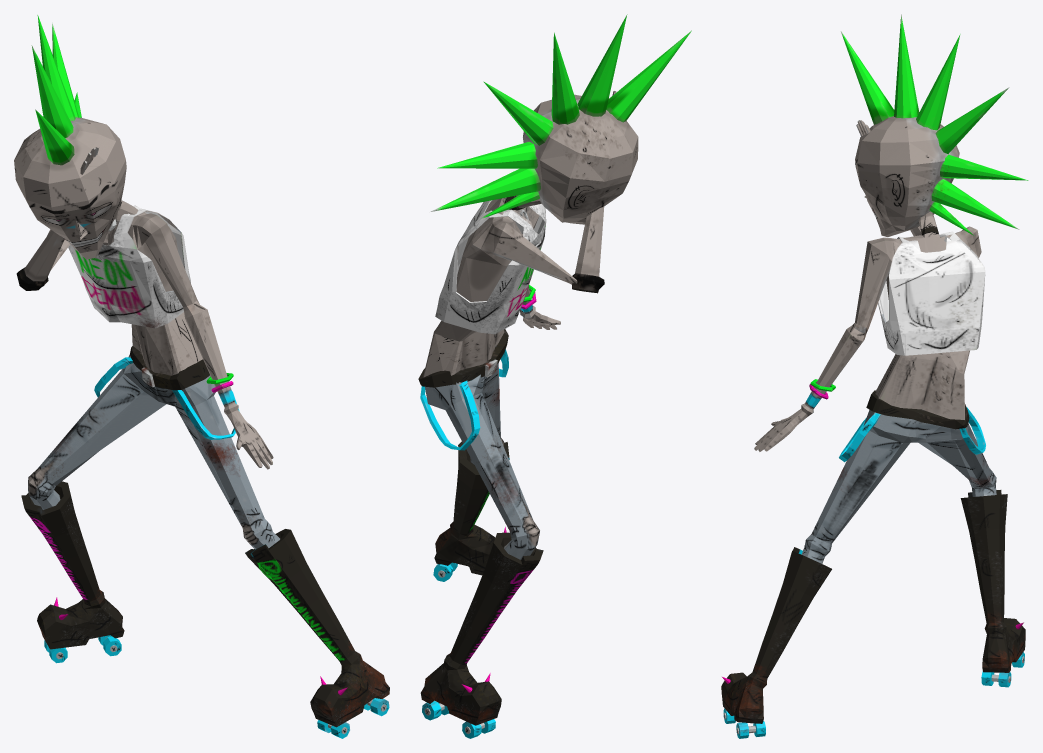
Rendered from punkAnimation_000056.obj.
3 renders of one model, left to right at view 1: azimuth 30°, elevation 25°; view 2: azimuth 150°, elevation 25°; view 3: azimuth 270°, elevation 25°, orthographic. The views are drawn at different scales.
Visible parts, largest first — view 1: Cube.004_Cube.003; view 2: Cube.004_Cube.003; view 3: Cube.004_Cube.003.
Boxes of the visible parts, x1,y1,x2,y2 form: Cube.004_Cube.003: (14,15,389,738); Cube.004_Cube.003: (418,14,691,738); Cube.004_Cube.003: (721,14,1028,738).
Size of the model in its own units: 3.11 by 6.72 by 3.05.
